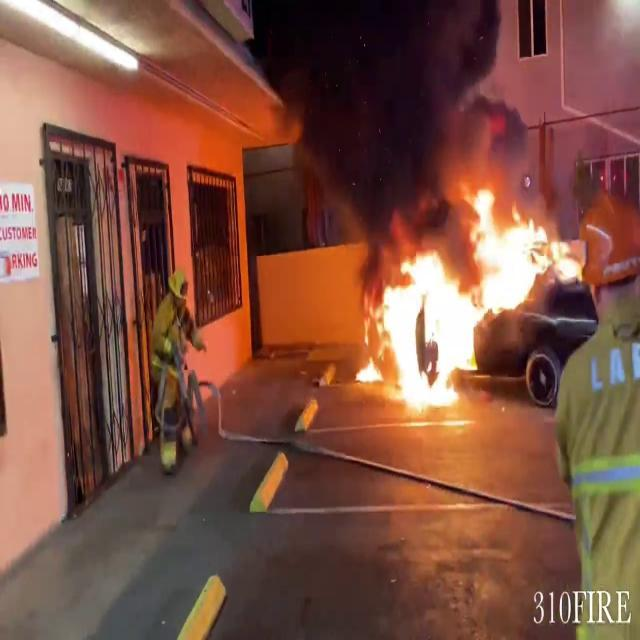Fire: (351, 172, 578, 408)
Smoke: (338, 0, 520, 226)
